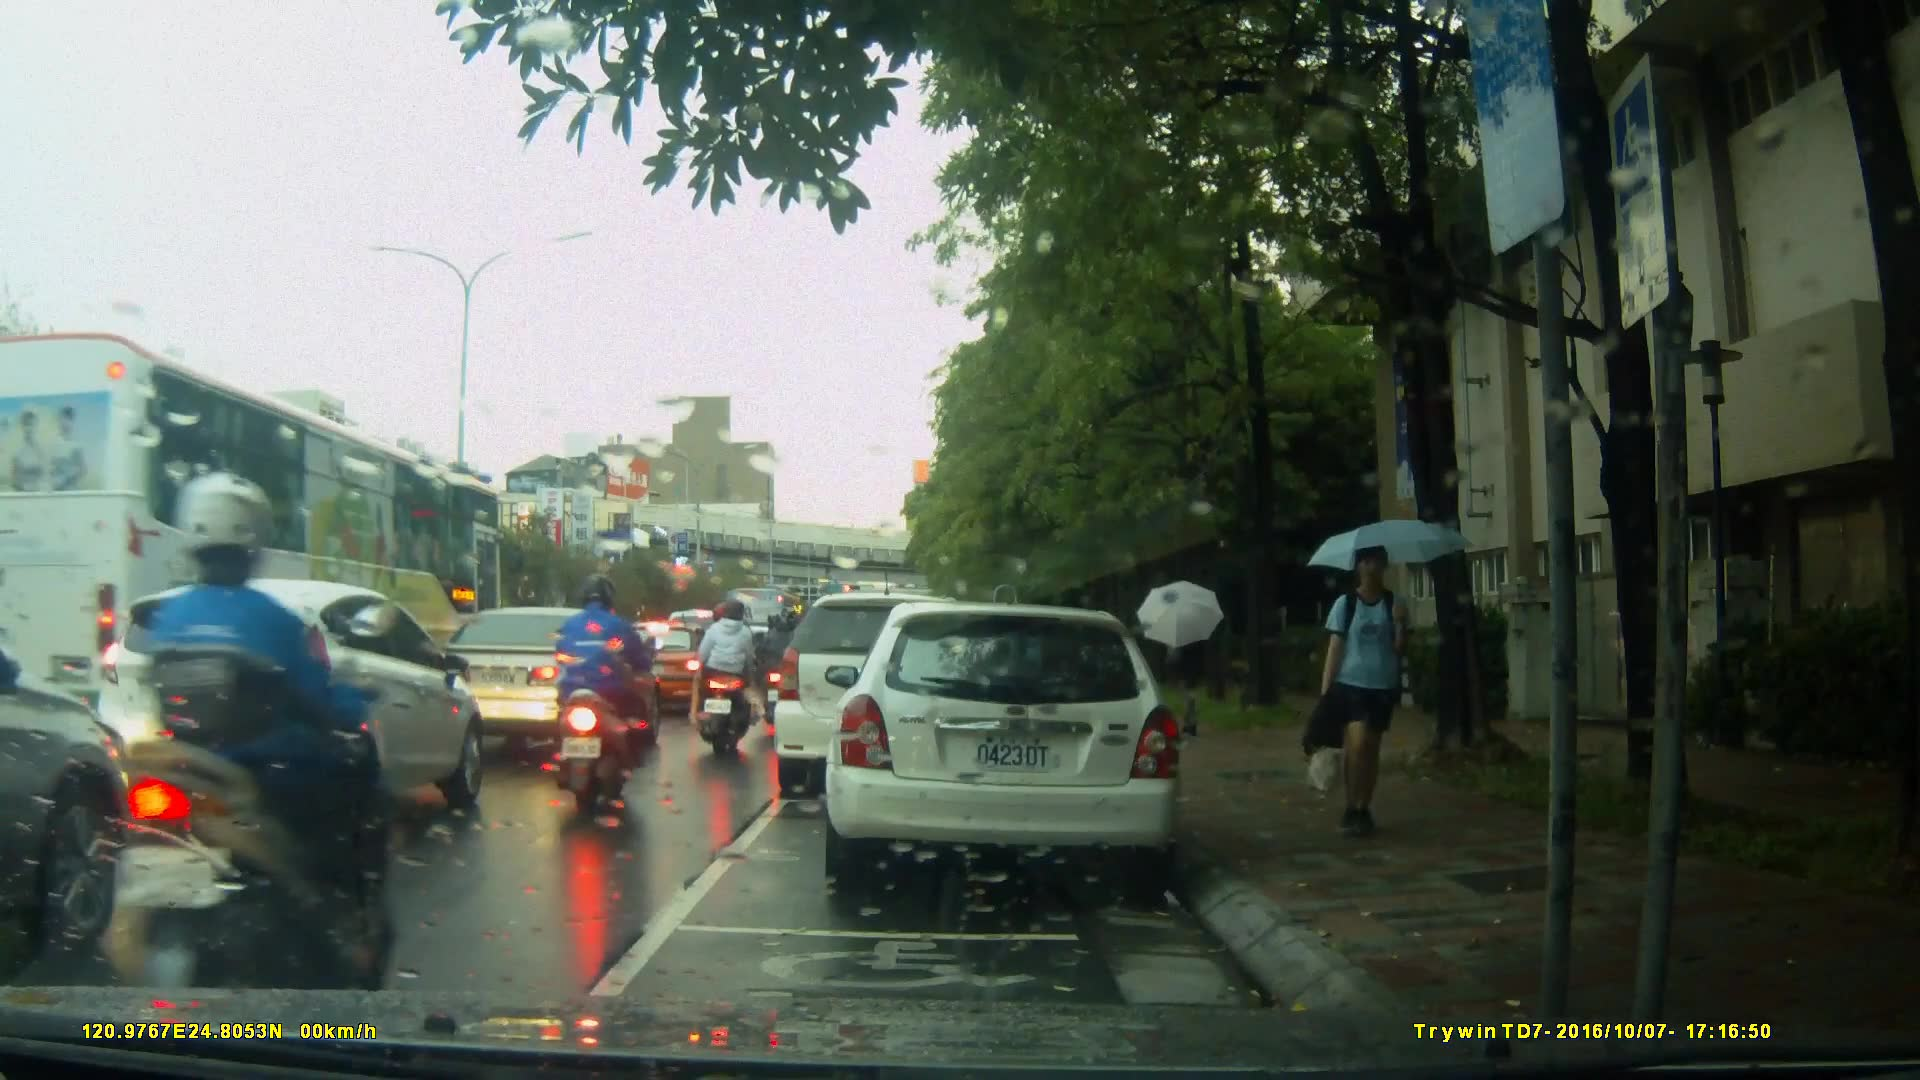pedestrian: (1306, 546, 1439, 832), (1163, 609, 1217, 738)
rider: (110, 454, 397, 1042), (559, 574, 650, 807), (700, 594, 770, 768), (762, 607, 799, 732)
vehicle: (4, 315, 510, 787), (835, 594, 1194, 898), (87, 576, 485, 846), (776, 590, 1026, 784), (408, 604, 657, 756), (609, 619, 728, 717)
